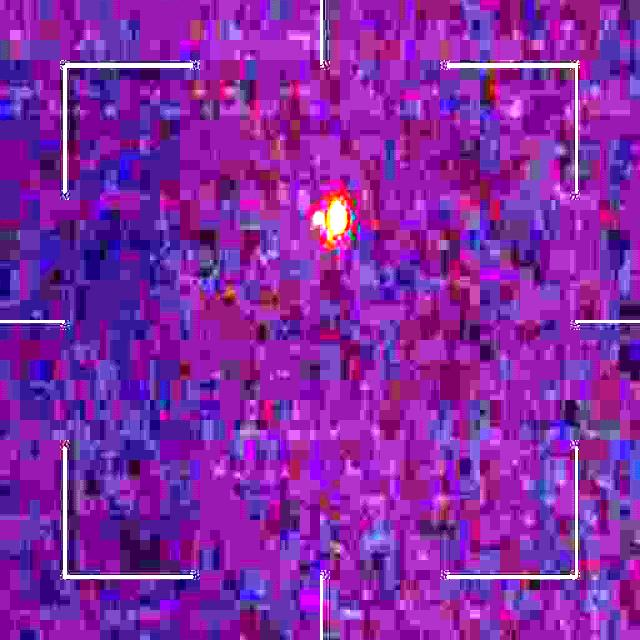bird: (312, 198, 346, 249)
